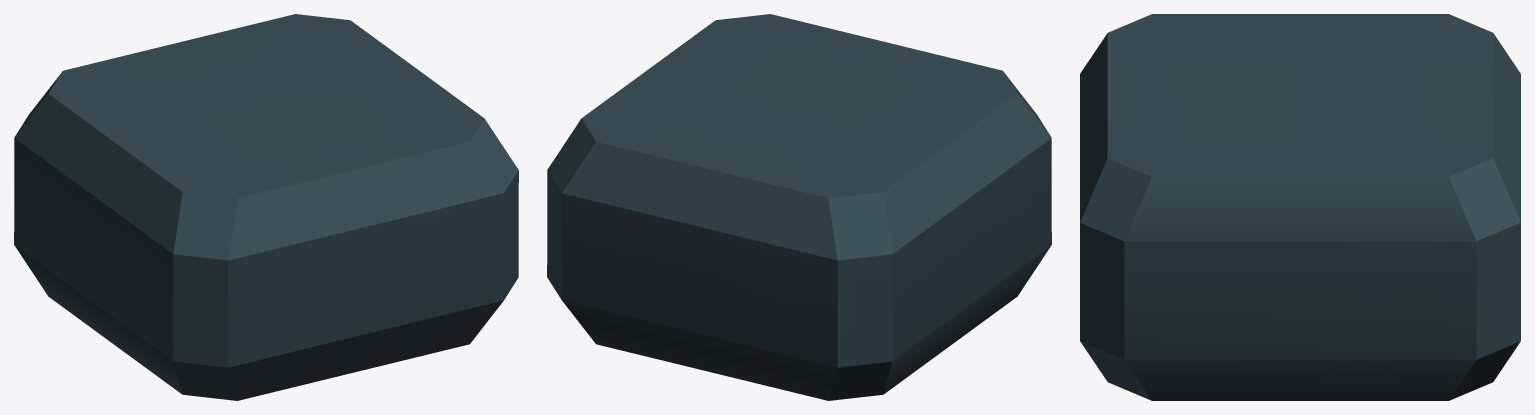
File: floor_divider_hub.fbx
3 views of the same model, side by side, from view 1: azimuth 30°, elevation 25°; view 2: azimuth 150°, elevation 25°; view 3: azimuth 270°, elevation 25° (orthographic). The views are drawn at different scales.
Parts seen in each view (by area): view 1: floor_divider_hub; view 2: floor_divider_hub; view 3: floor_divider_hub.
Part boxes in pixels (x1,y1,x2,y2): floor_divider_hub: (14,14,518,400); floor_divider_hub: (547,14,1051,400); floor_divider_hub: (1080,14,1520,400).
Size of the model in its own units: 59.77 by 33.52 by 59.77.
